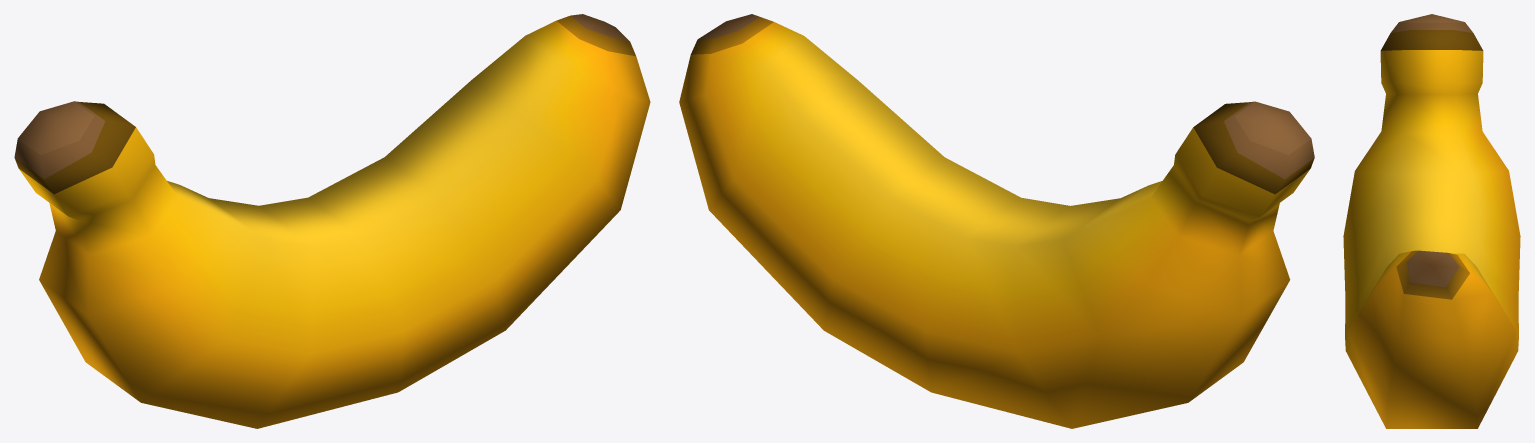
Rendered from Banana.fbx.
3 views of the same model, side by side, from view 1: azimuth 30°, elevation 25°; view 2: azimuth 150°, elevation 25°; view 3: azimuth 270°, elevation 25° (orthographic). The views are drawn at different scales.
Visible parts, largest first — view 1: Banana; view 2: Banana; view 3: Banana.
Boxes of the visible parts, <box> form: Banana: <box>14,14,650,428</box>; Banana: <box>679,14,1314,428</box>; Banana: <box>1343,14,1520,428</box>.
Size of the model in its own units: 0.5039 by 0.2683 by 0.1548.
